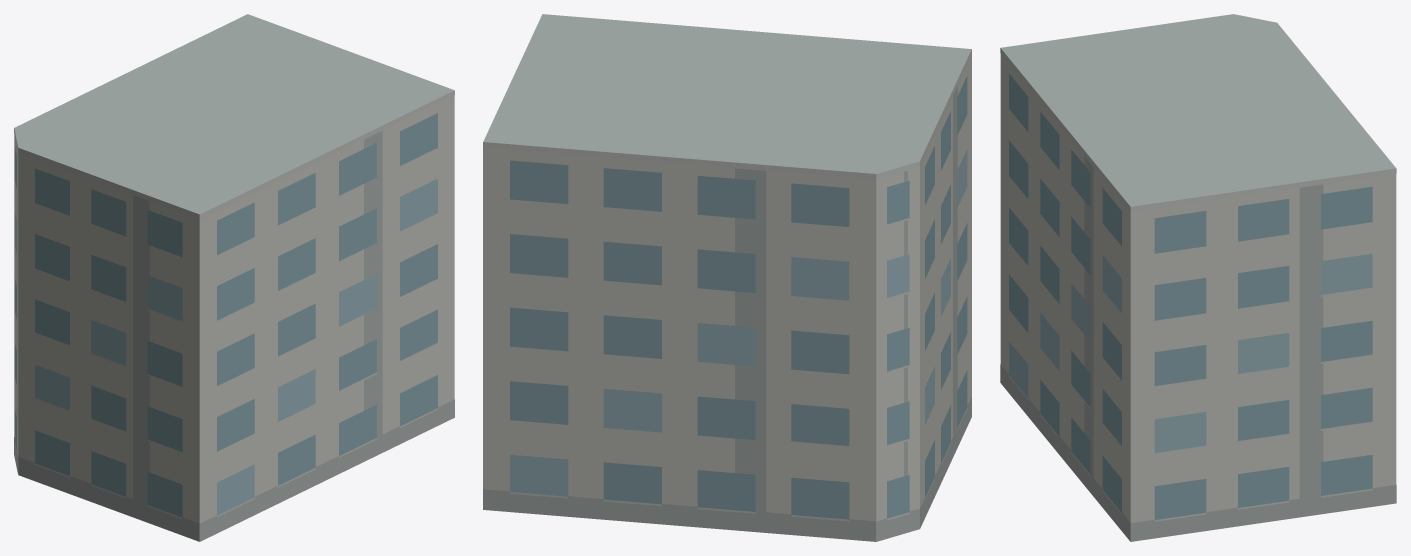
The model's file is survey-upis-32787904.glb.
3 views of the same model, side by side, from view 1: azimuth 30°, elevation 25°; view 2: azimuth 150°, elevation 25°; view 3: azimuth 270°, elevation 25° (orthographic). The views are drawn at different scales.
Visible parts, largest first — view 1: survey-upis-32787904.tmp; view 2: survey-upis-32787904.tmp; view 3: survey-upis-32787904.tmp.
Part boxes in pixels (x1,y1,x2,y2): survey-upis-32787904.tmp: (14,14,454,541); survey-upis-32787904.tmp: (483,14,971,541); survey-upis-32787904.tmp: (1000,14,1396,541).
Bounding box in the file's own units: 18.9 × 15.3 × 16.4.
